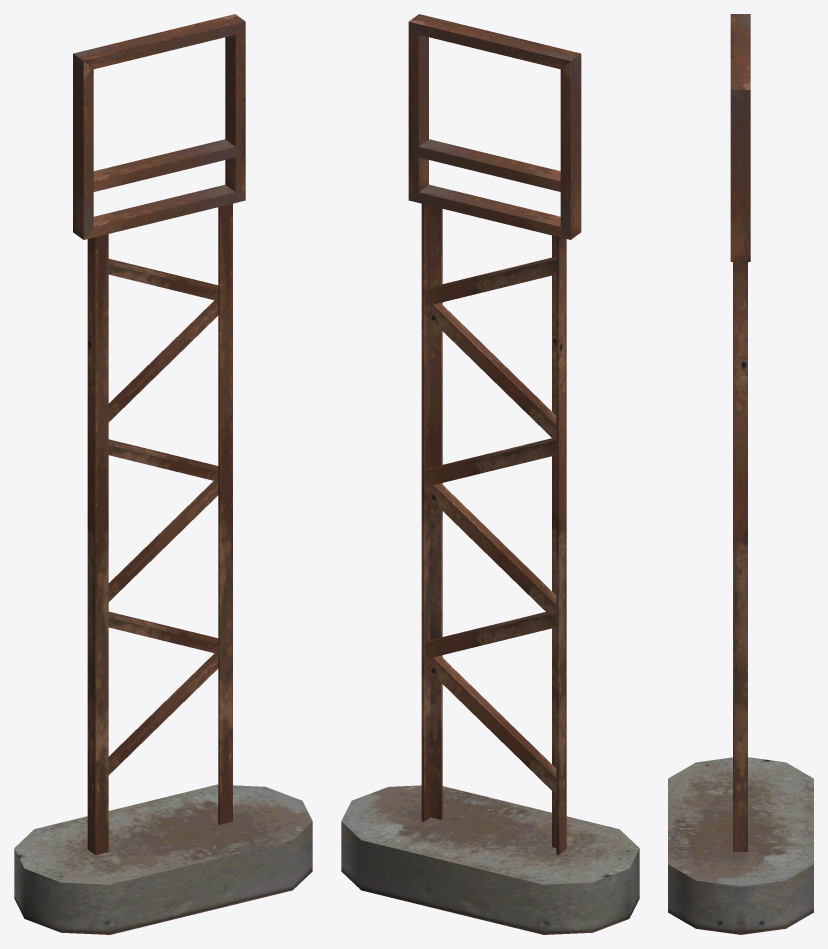
Rendered from Pipe_support.fbx.
3 views of the same model, side by side, from view 1: azimuth 30°, elevation 25°; view 2: azimuth 150°, elevation 25°; view 3: azimuth 270°, elevation 25° (orthographic). The views are drawn at different scales.
Visible parts, largest first — view 1: Pipe_support; view 2: Pipe_support; view 3: Pipe_support.
Boxes of the visible parts, <box> form: Pipe_support: <box>14,14,312,934</box>; Pipe_support: <box>341,14,639,934</box>; Pipe_support: <box>668,14,813,934</box>.
Size of the model in its own units: 177 by 515 by 83.49.
